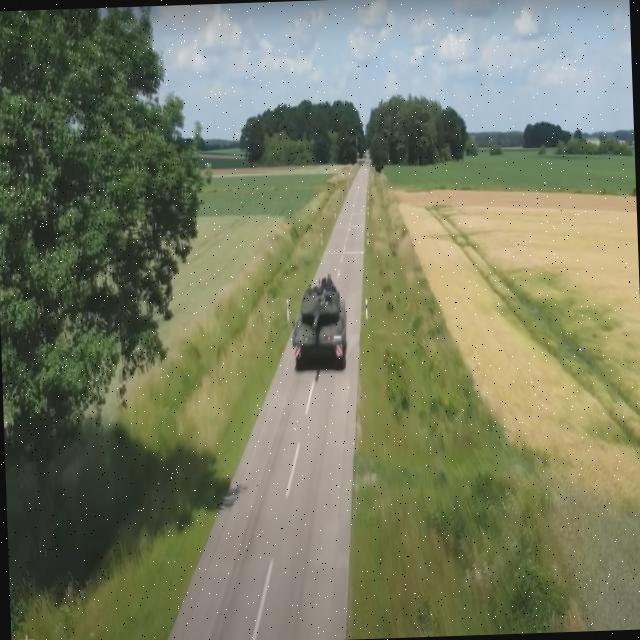MBT: (289, 270, 350, 378)
